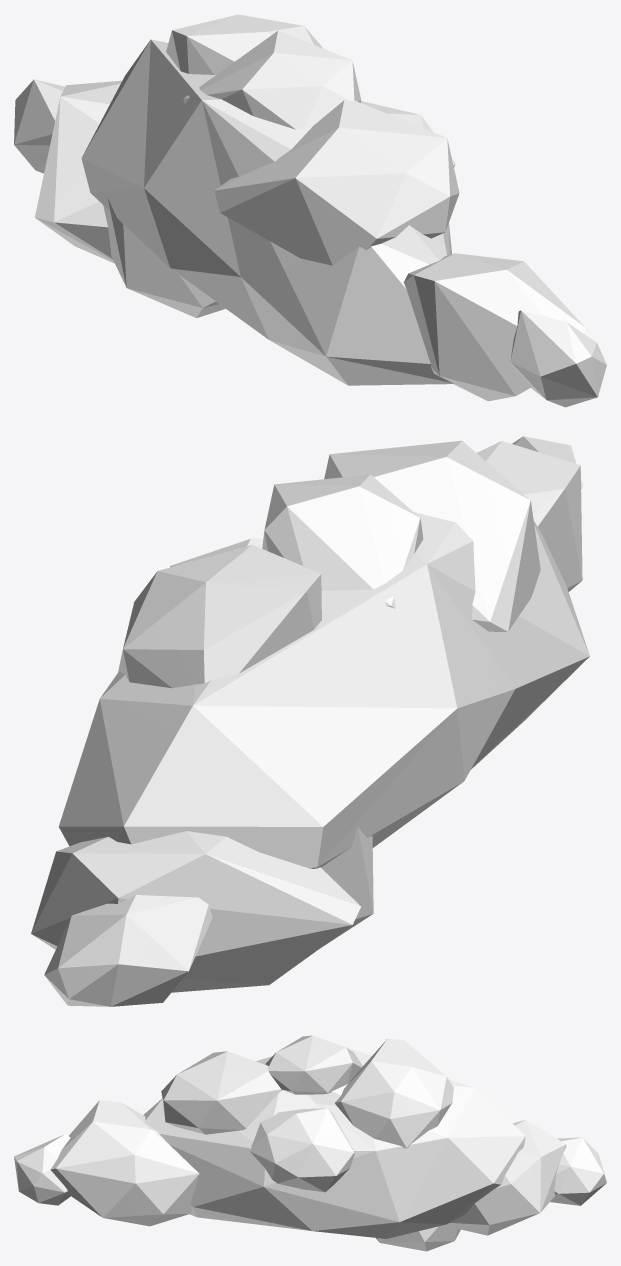
Rendered from cloud.308de96e.glb.
3 renders of one model, top to bottom at view 1: azimuth 30°, elevation 25°; view 2: azimuth 150°, elevation 25°; view 3: azimuth 270°, elevation 25°, orthographic. The views are drawn at different scales.
Visible parts, largest first — view 1: cloud; view 2: cloud; view 3: cloud.
Part boxes in pixels (x1=…): cloud: x1=14, y1=14, x2=606, y2=407; cloud: x1=31, y1=436, x2=589, y2=1006; cloud: x1=14, y1=1035, x2=606, y2=1251.
Size of the model in its own units: 4.93 by 5.46 by 14.23.
Materials: 1 (1 with a texture image).
